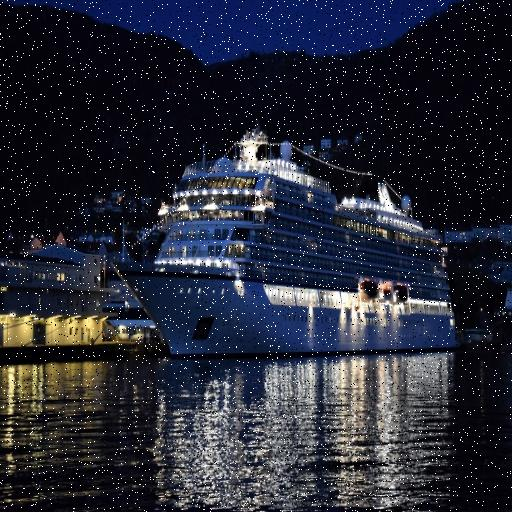cruises: (105, 127, 462, 370)
